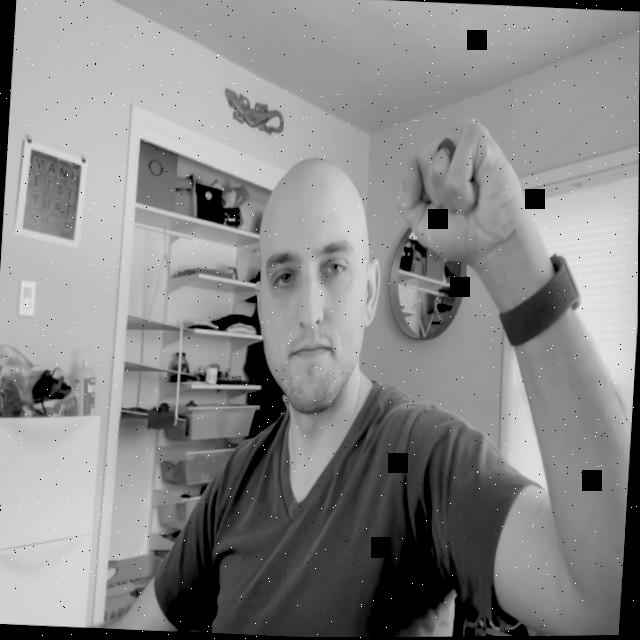Rock: (390, 110, 527, 272)
